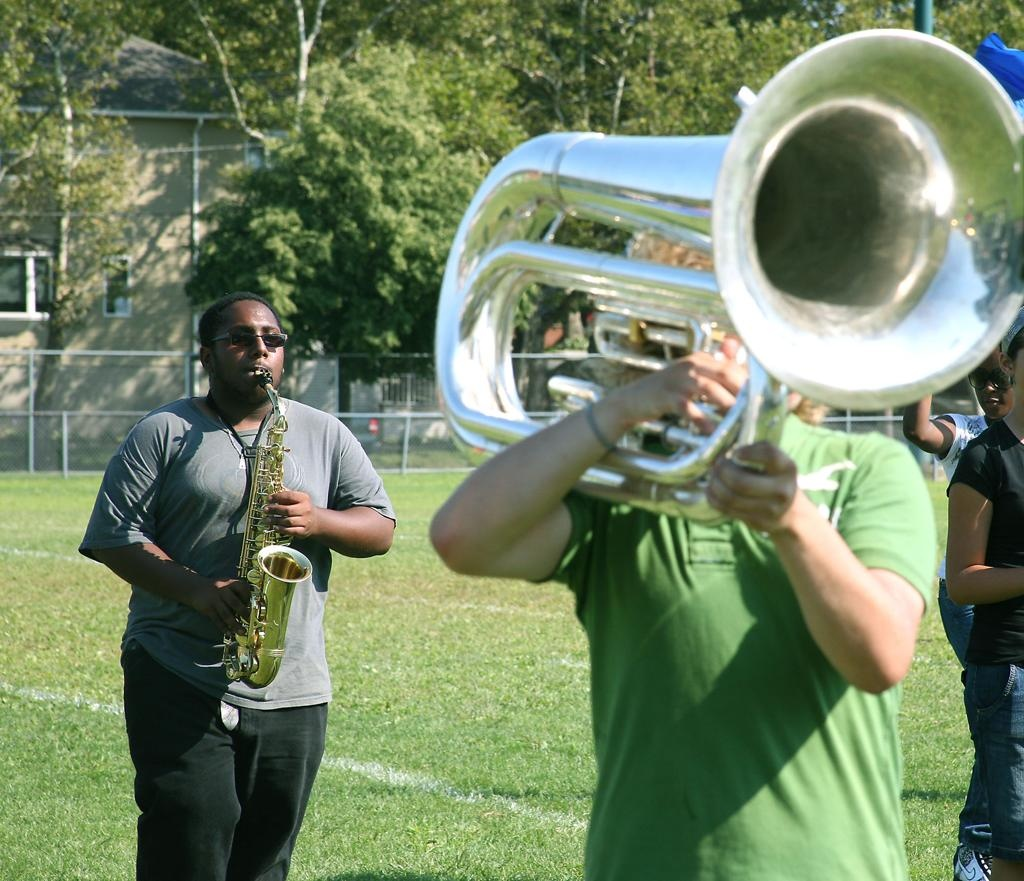human_face: (210, 306, 284, 400), (973, 348, 1015, 418)
